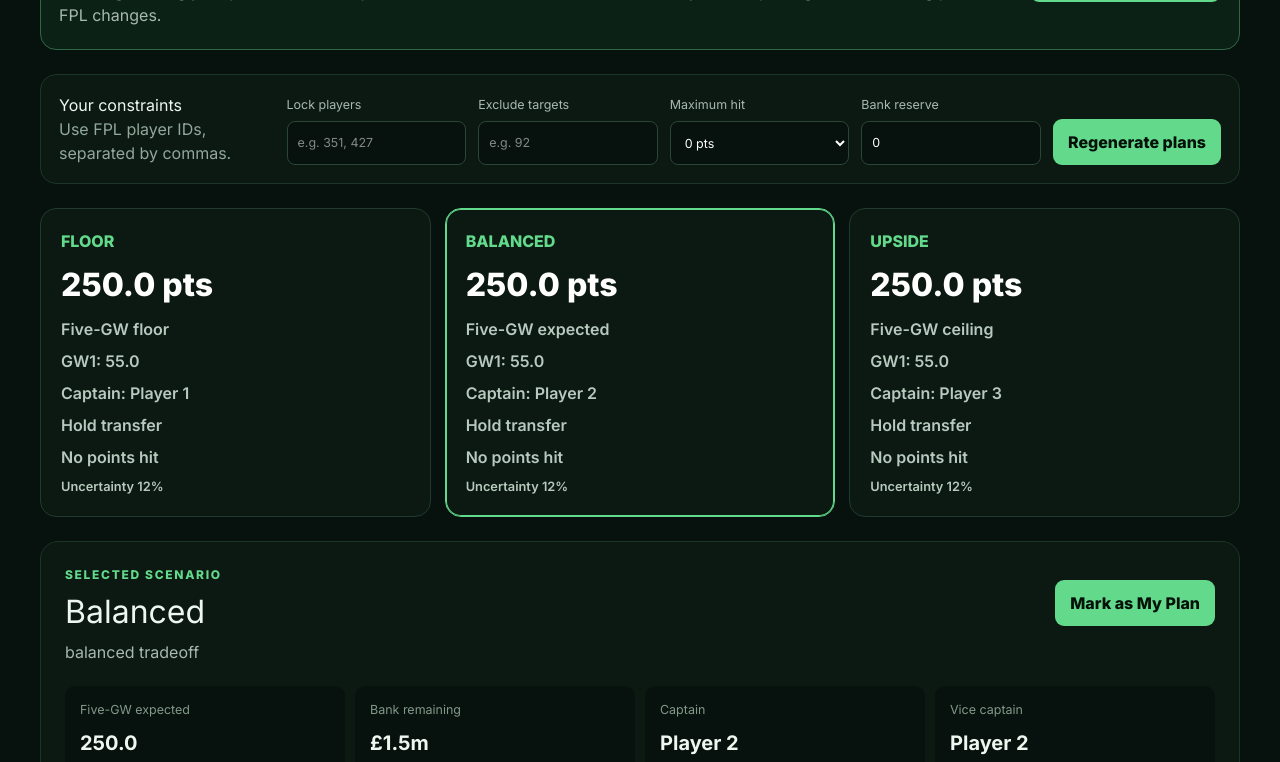
Test case: PlanningWorkspace › renders a safe placeholder instead of crashing on an invalid numeric metric
(page scrolled)
What coordinates should you click on to do the following:
click the button "Floor"
I would click on:
 (88, 241)
Its box is [40, 208, 431, 517].
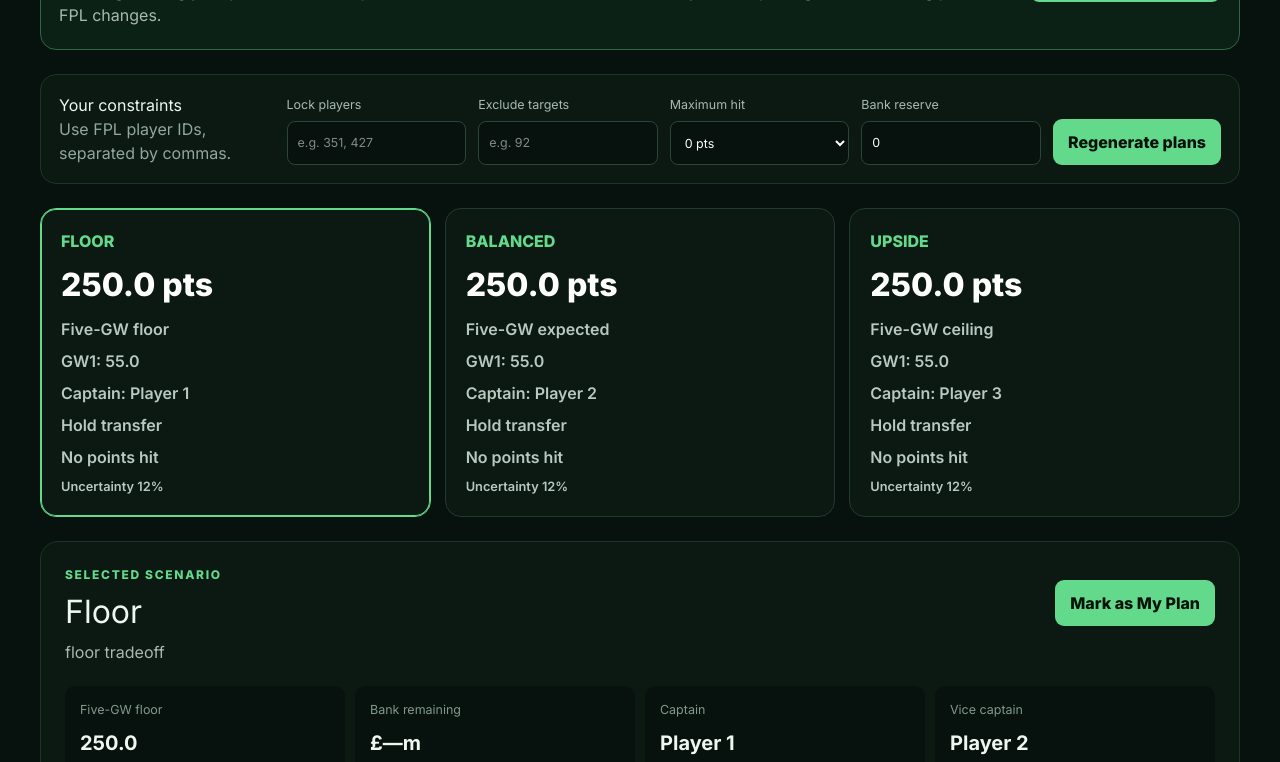
Expected: the text "£—m" is shown, [370, 731, 421, 755]
